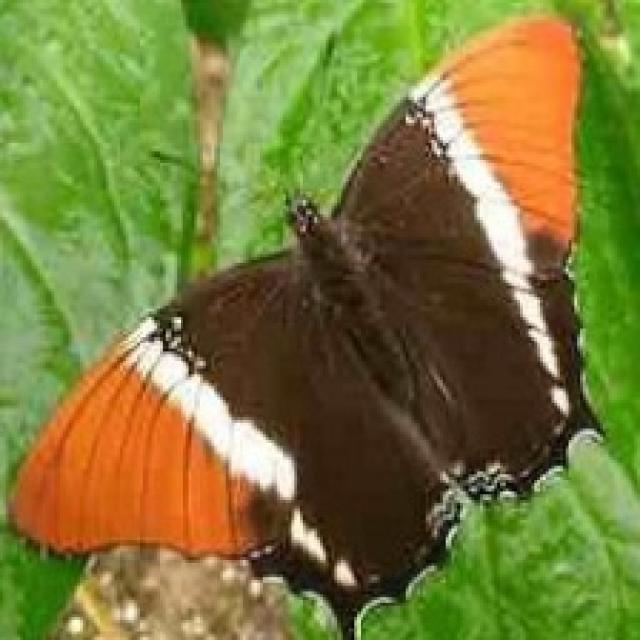butterfly: (3, 9, 606, 637)
